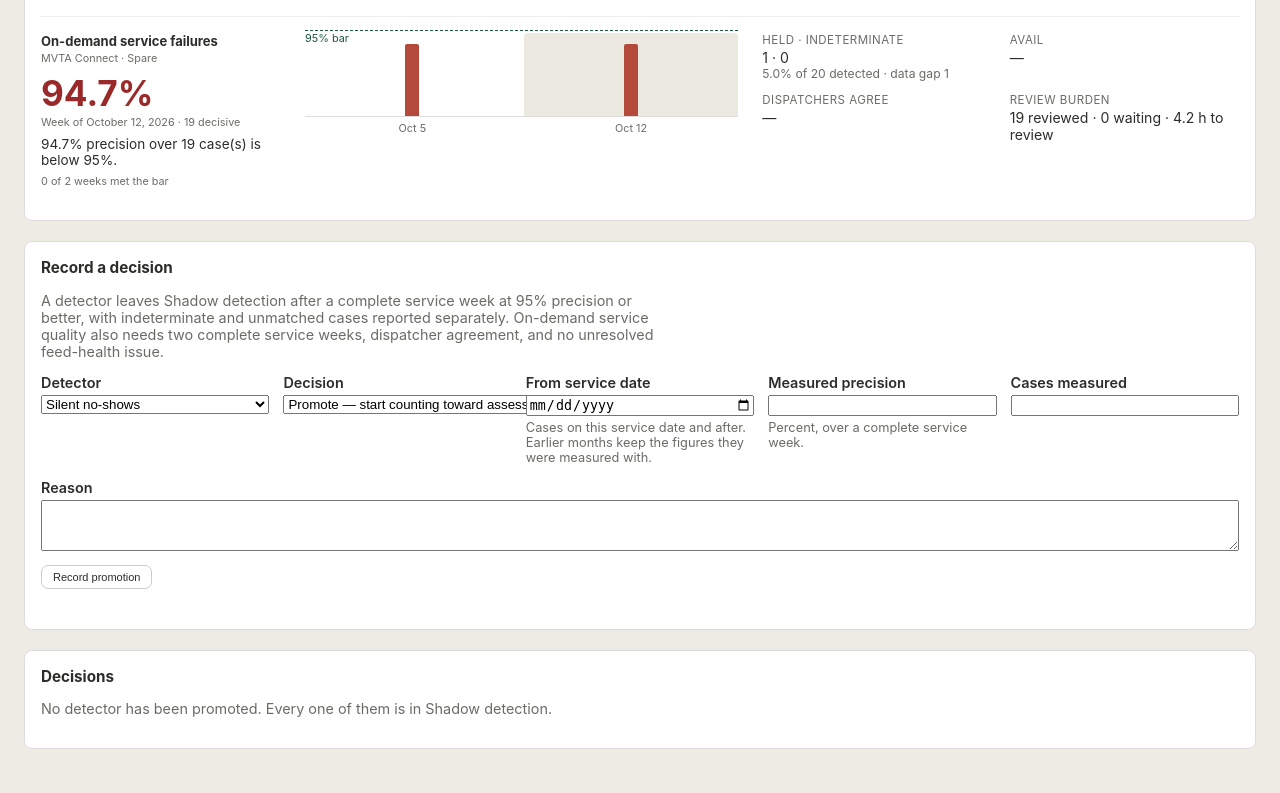
Test case: Missed-trip detector promotion › will not send a promotion that has no evidence behind it
(page scrolled)
Click the button "Record promotion": (97, 577) [41,565,152,589]
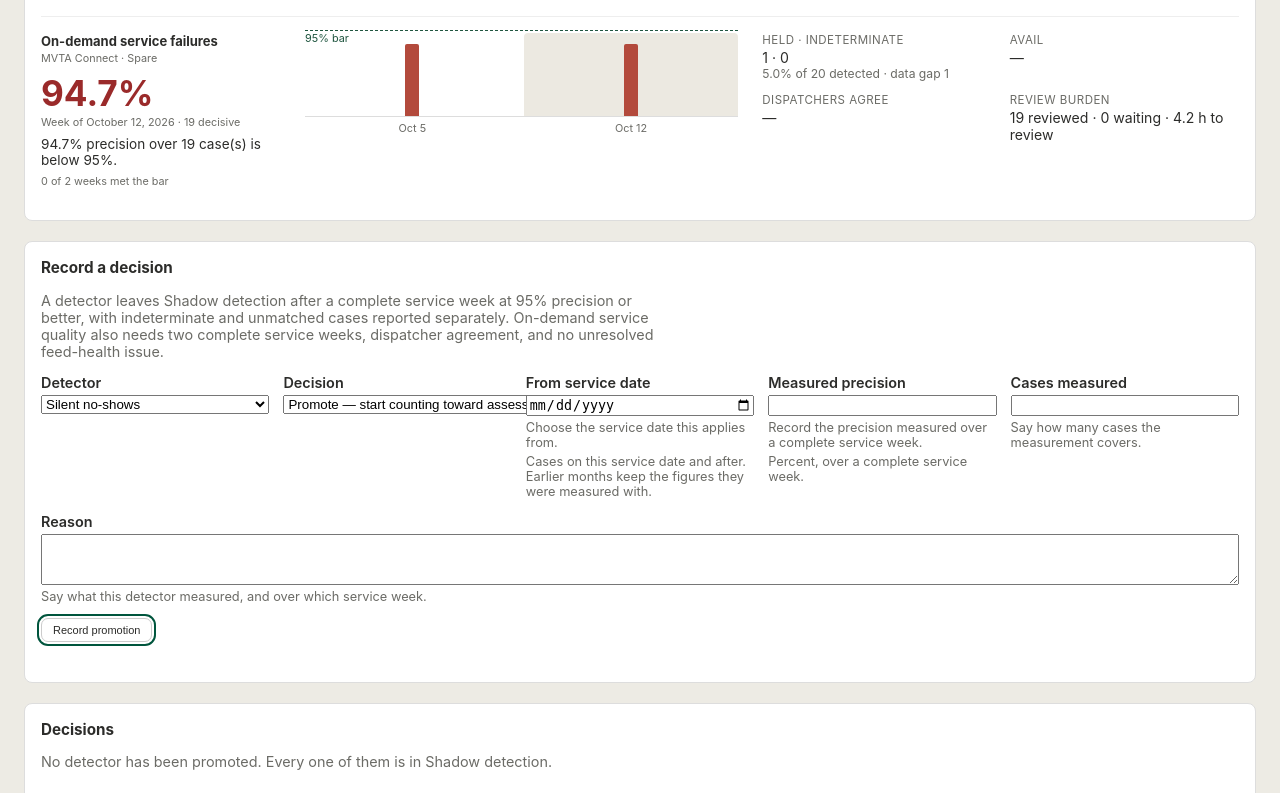
Now the text "Choose the service date this applies from." is shown, box [526,420,754,450]
Now the text "Record the precision measured over a complete service week." is shown, box [768,420,997,450]
